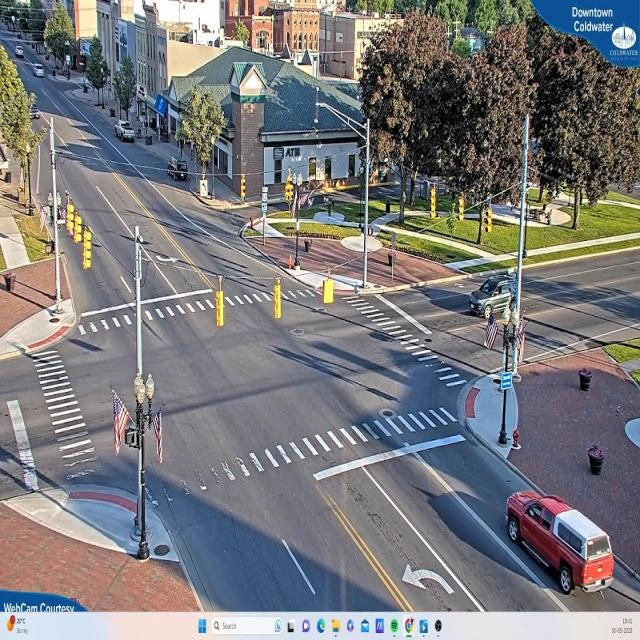car: (506, 495, 616, 595), (469, 275, 517, 318), (117, 122, 137, 145)
